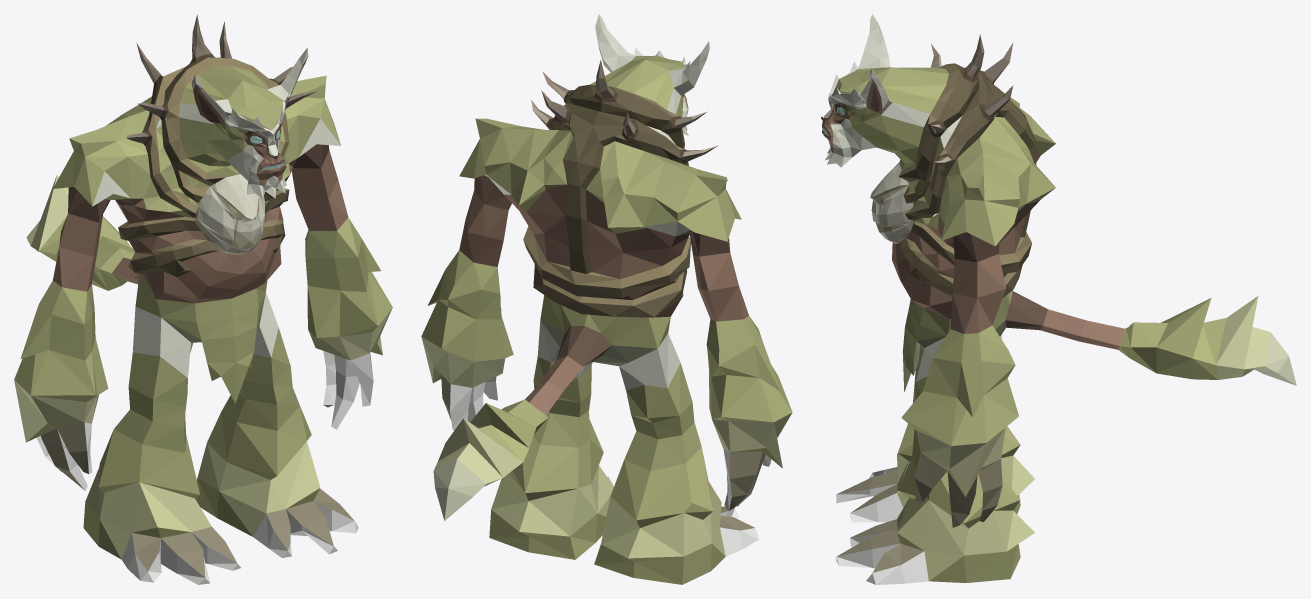
The model's file is soul-wars.gltf.
3 views of the same model, side by side, from view 1: azimuth 30°, elevation 25°; view 2: azimuth 150°, elevation 25°; view 3: azimuth 270°, elevation 25° (orthographic). The views are drawn at different scales.
Size of the model in its own units: 574 by 760 by 658.
Materials: 1 (1 with a texture image).
